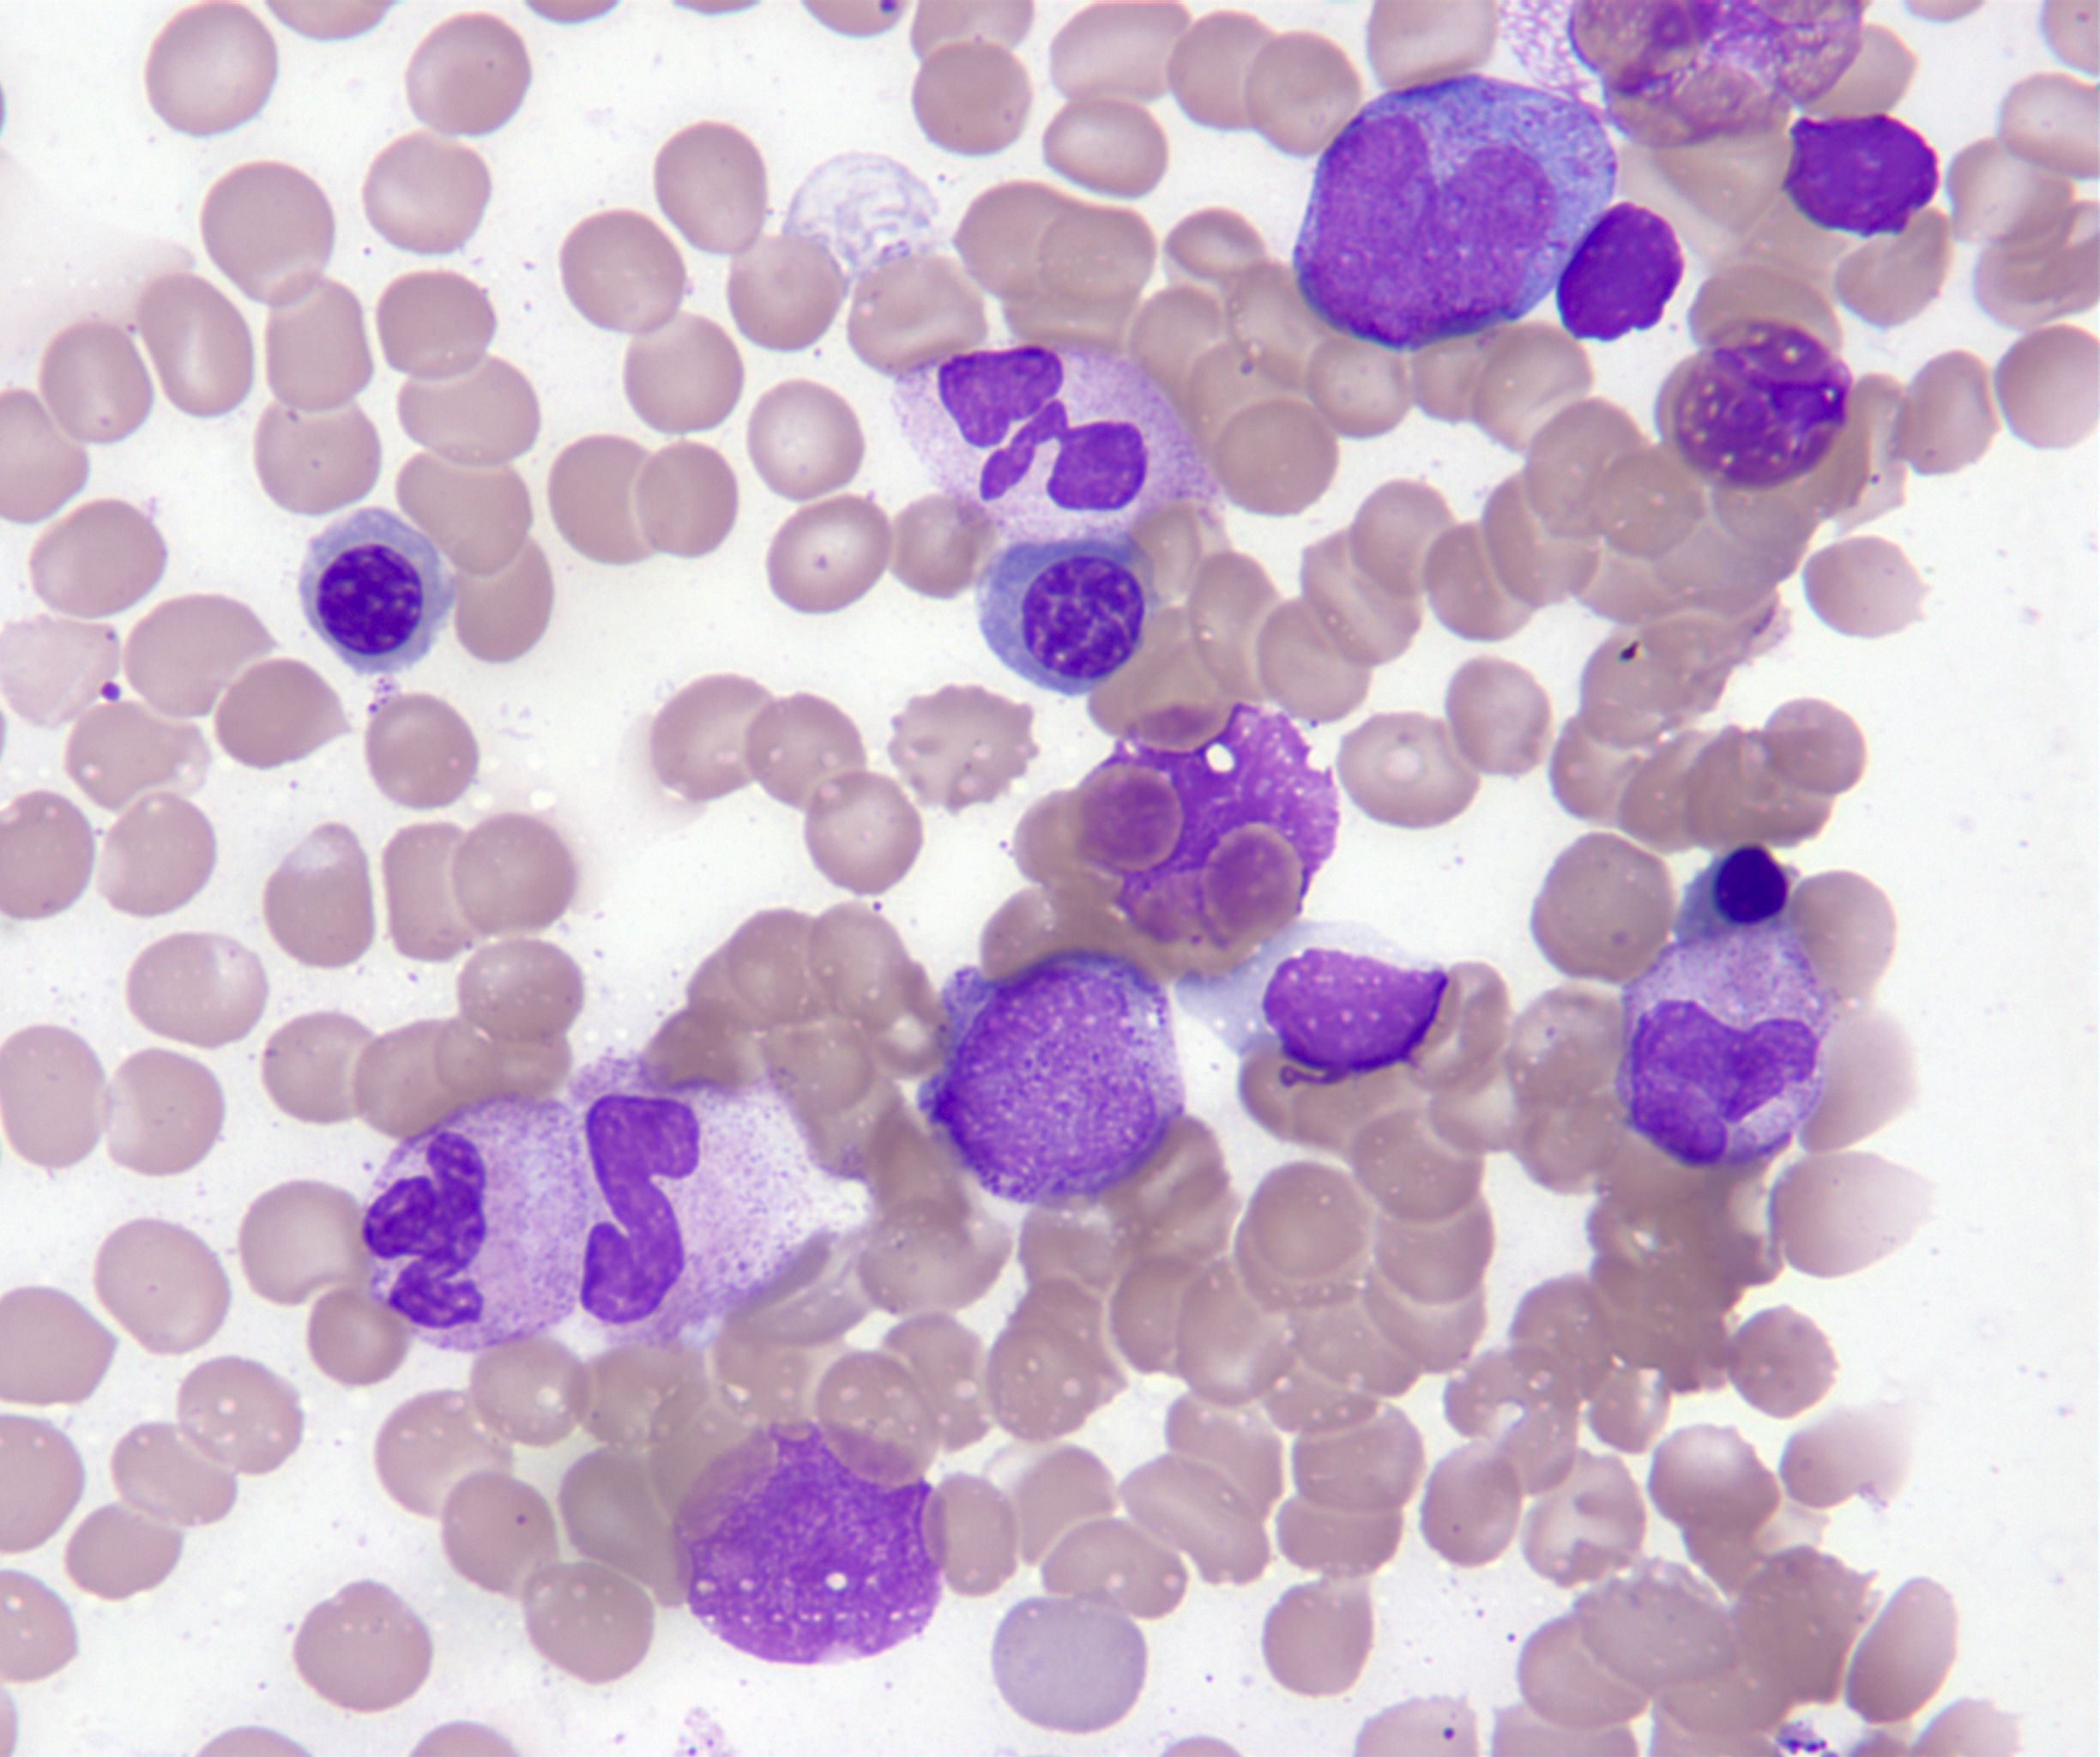2: (1294, 75, 1617, 354)
23: (975, 532, 1155, 698), (300, 506, 455, 673)
24: (1673, 844, 1798, 949)
3: (919, 949, 1186, 1206)
32: (1177, 921, 1448, 1089)
4: (1613, 928, 1826, 1171)
5: (567, 1057, 872, 1354)
6: (890, 340, 1228, 550), (356, 1096, 591, 1354)
x: (672, 1422, 947, 1666), (1071, 703, 1340, 951), (1657, 318, 1851, 490), (1781, 110, 1940, 241), (1559, 201, 1685, 345)
